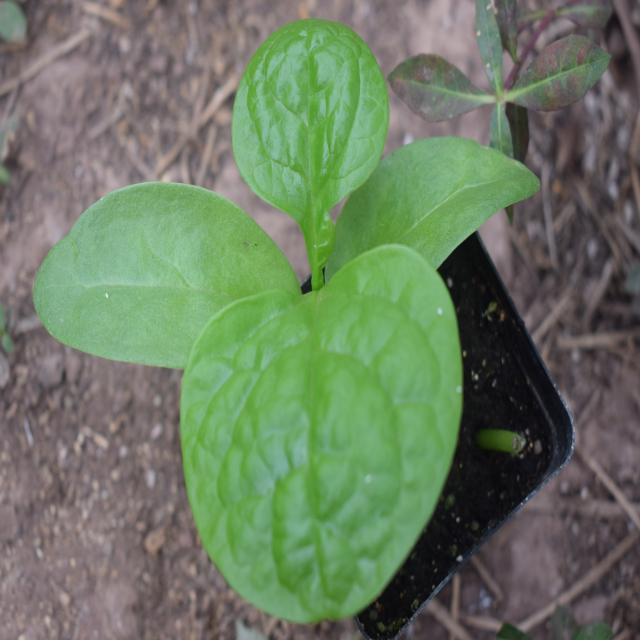Ceylon spinach: (35, 0, 502, 604)
